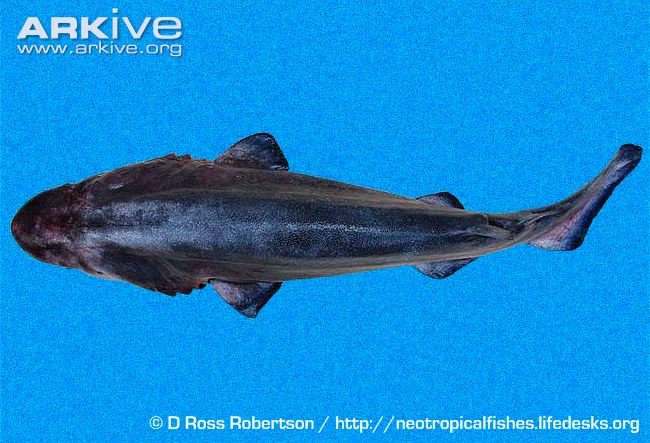shark: (12, 109, 646, 340)
